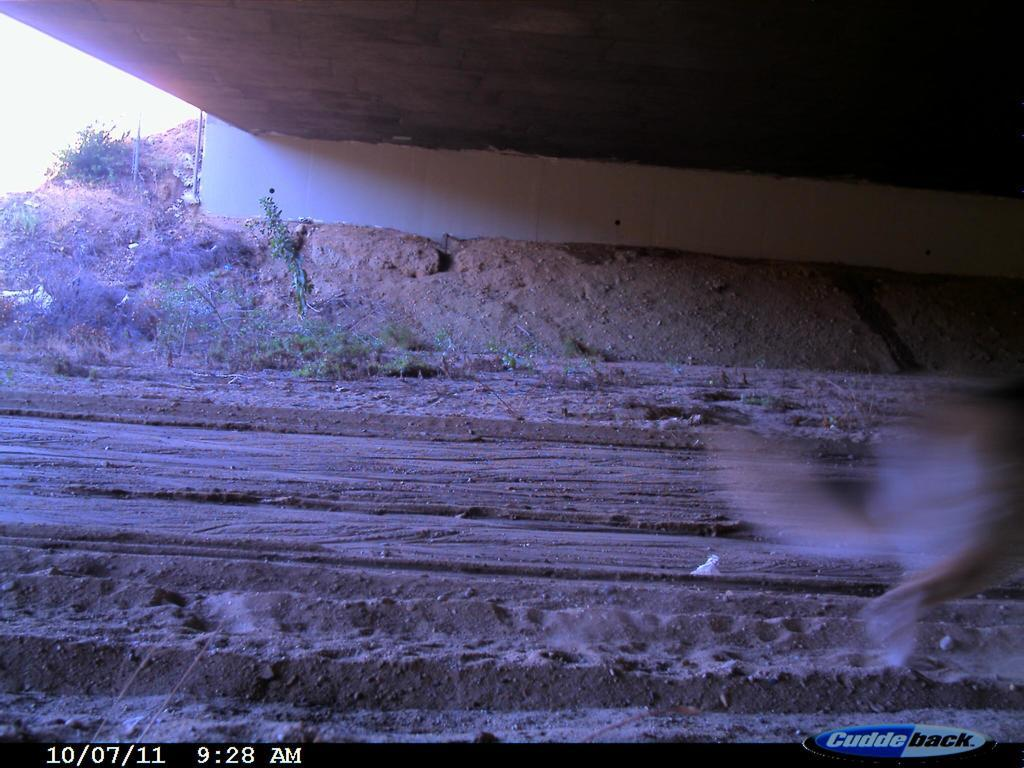dog: (699, 354, 1024, 676)
